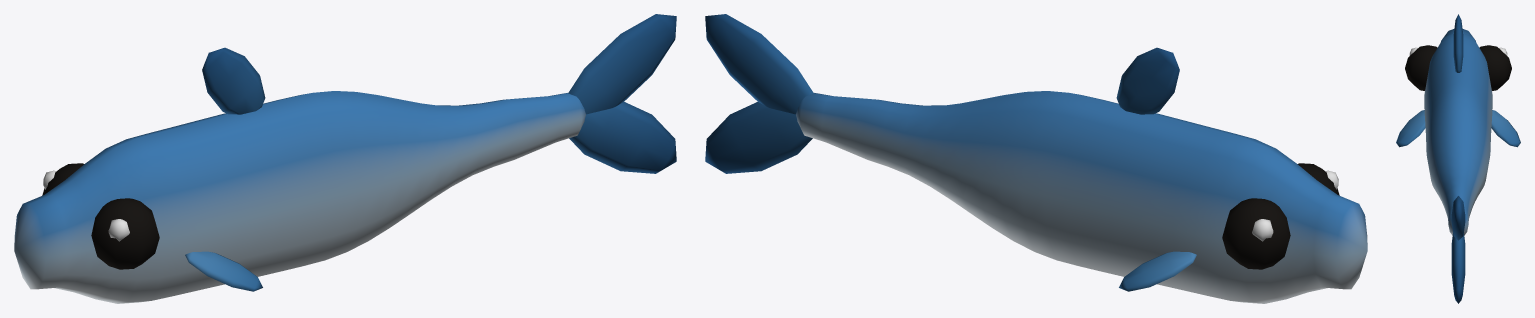
Rendered from Bluefish.glb.
3 views of the same model, side by side, from view 1: azimuth 30°, elevation 25°; view 2: azimuth 150°, elevation 25°; view 3: azimuth 270°, elevation 25° (orthographic). The views are drawn at different scales.
Visible parts, largest first — view 1: Bluefish; view 2: Bluefish; view 3: Bluefish.
Part boxes in pixels (x1,y1,x2,y2): Bluefish: (14,14,676,303); Bluefish: (705,14,1367,303); Bluefish: (1396,14,1520,303).
Size of the model in its own units: 1.24 by 0.4234 by 0.3152.
